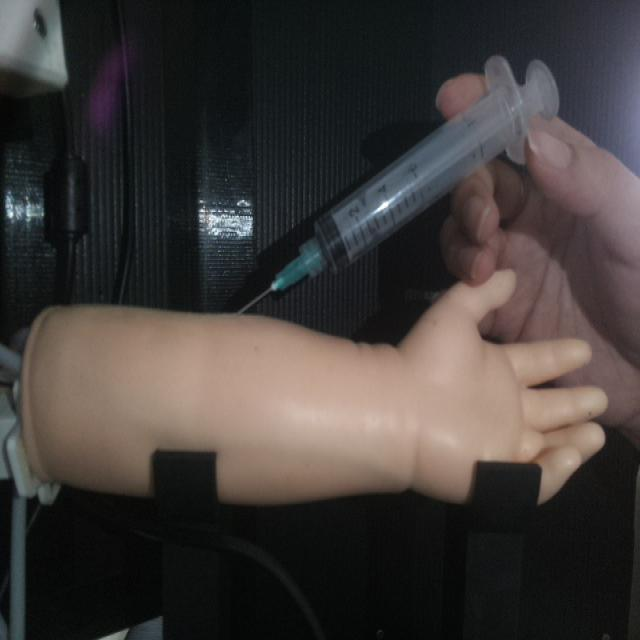Above 30 degrees: (231, 51, 560, 316)
